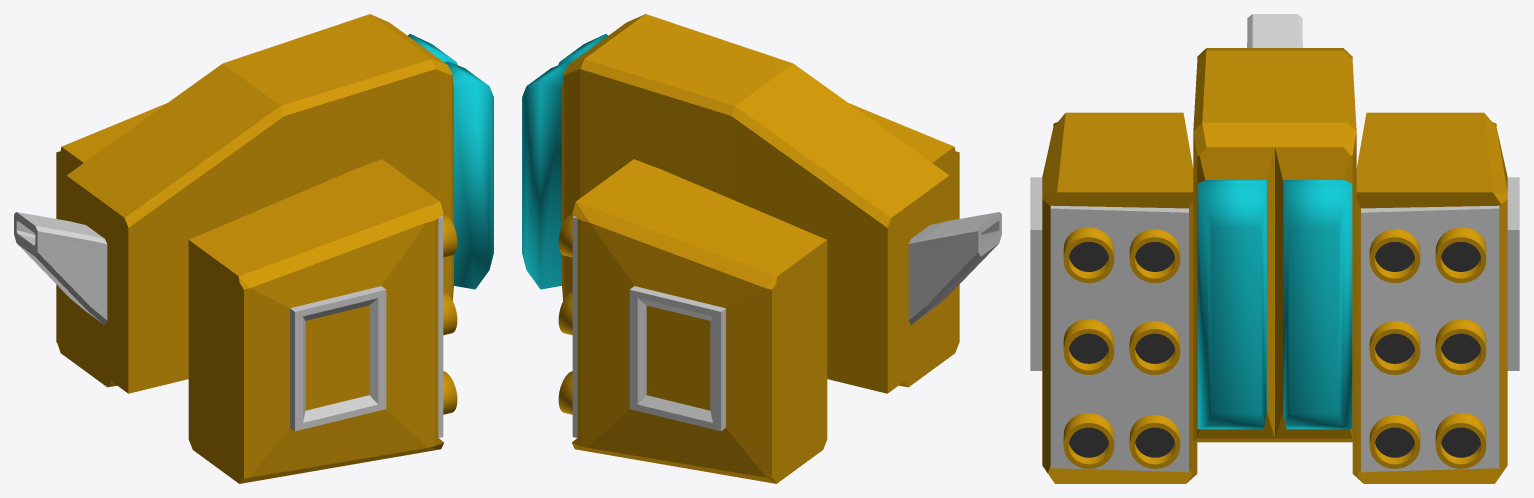
File: Bulky.fbx
3 views of the same model, side by side, from view 1: azimuth 30°, elevation 25°; view 2: azimuth 150°, elevation 25°; view 3: azimuth 270°, elevation 25° (orthographic). The views are drawn at different scales.
Visible parts, largest first — view 1: Cube; view 2: Cube; view 3: Cube.
Part boxes in pixels (x1=…): Cube: x1=14, y1=14, x2=493, y2=483; Cube: x1=522, y1=14, x2=1001, y2=483; Cube: x1=1030, y1=14, x2=1519, y2=483.
Bounding box in the file's own units: 775 × 557 × 630.
